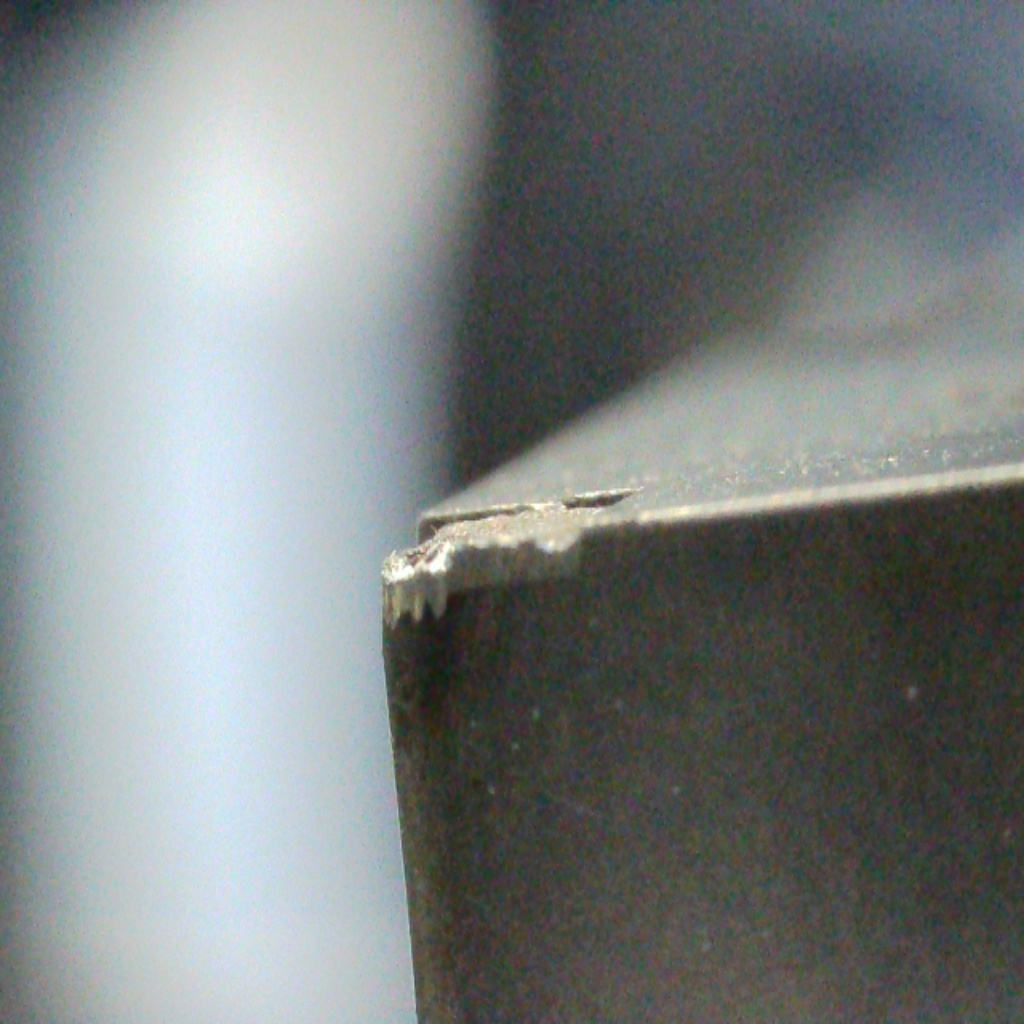flank_wear: (382, 595, 459, 634)
